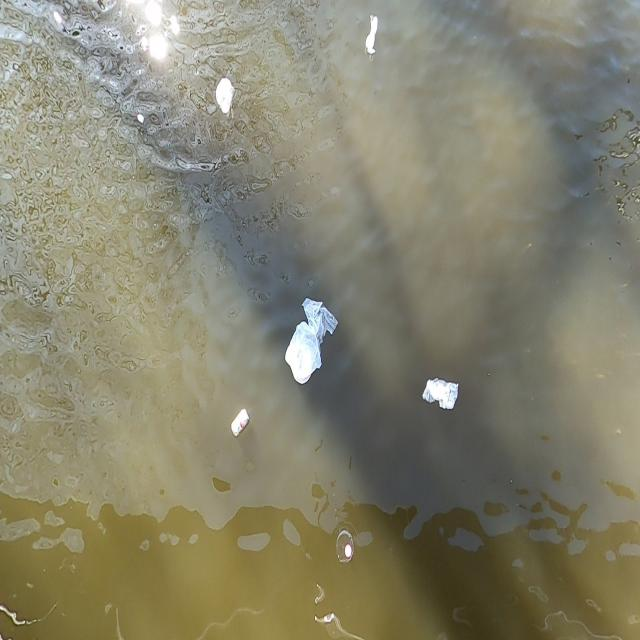Non plastique: (229, 405, 249, 442)
Sac plastique: (282, 292, 339, 388)
